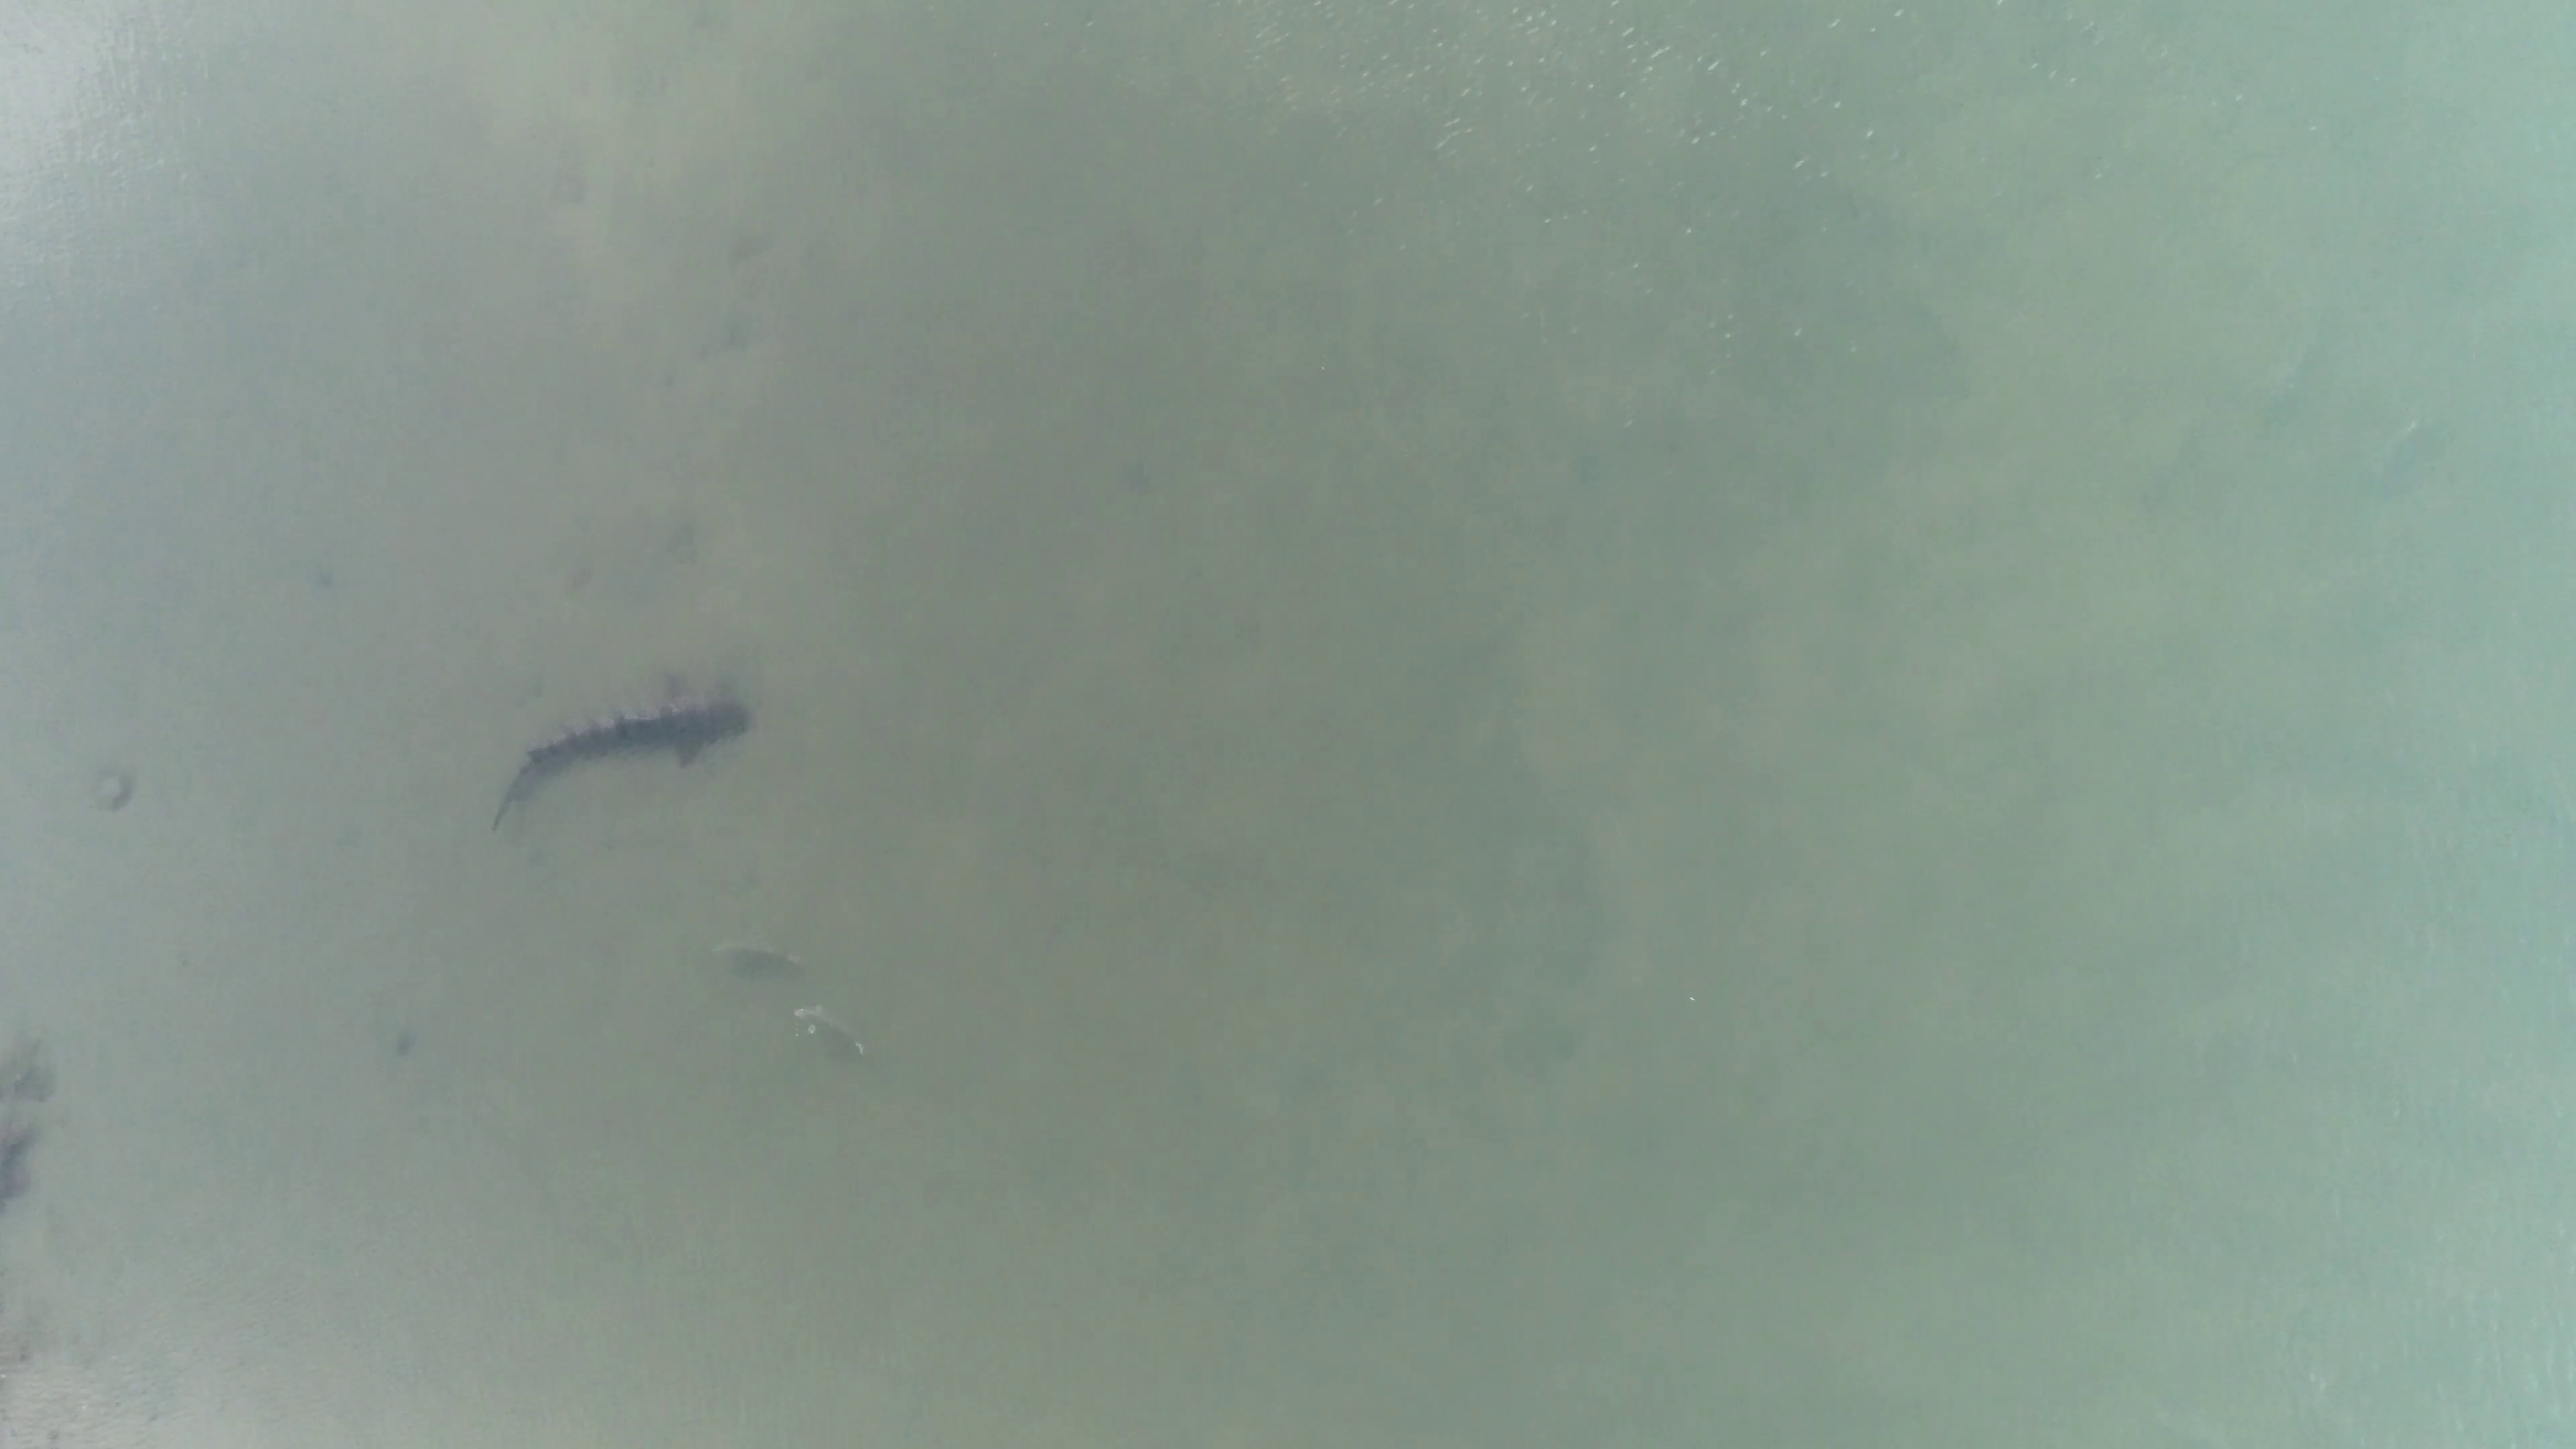shark: (1295, 683, 1361, 787)
